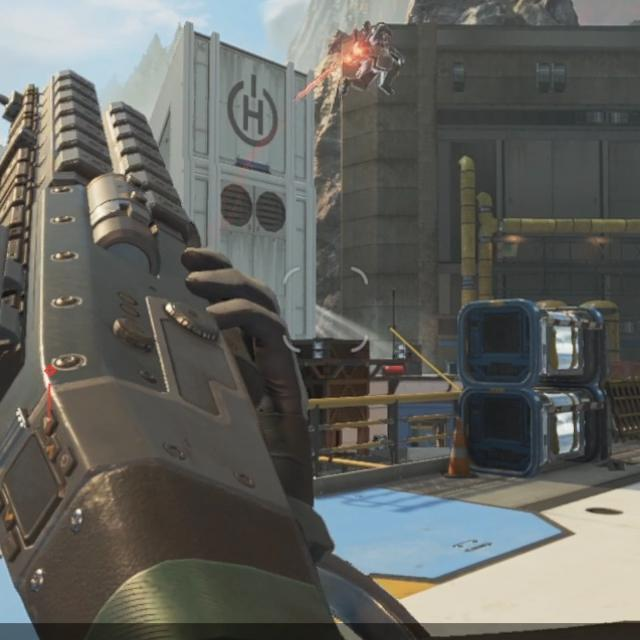avatar: (345, 17, 401, 96)
